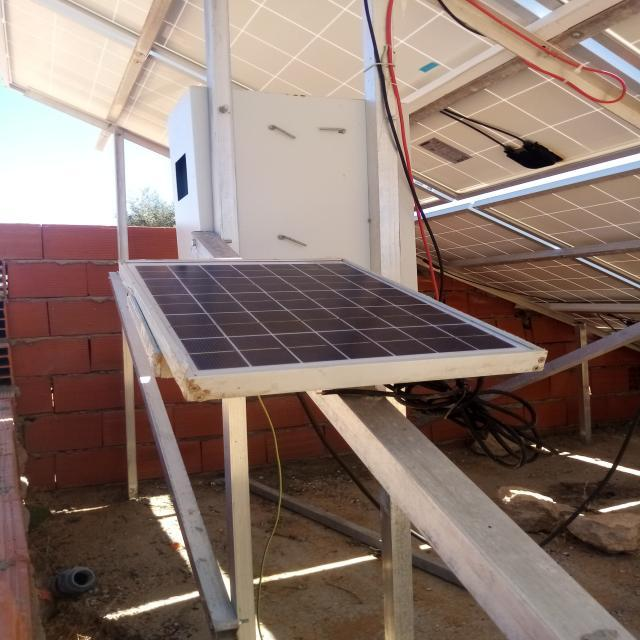no faulty: (120, 258, 543, 377)
